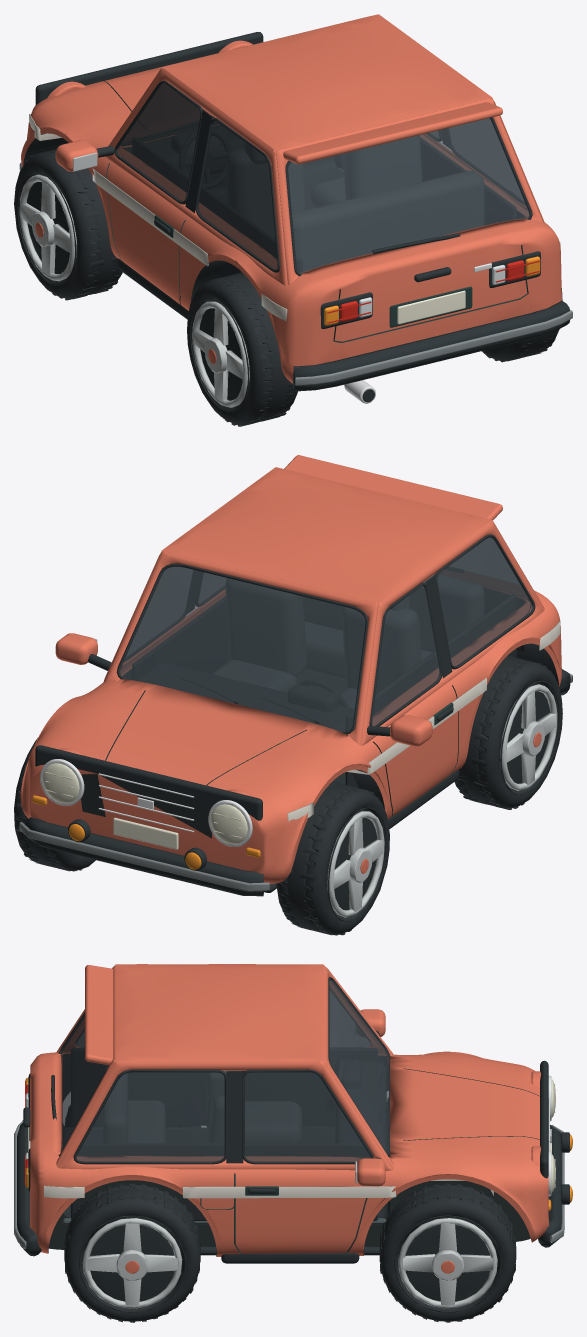
Rendered from bramble_lod1.fbx.
3 views of the same model, one above another, from view 1: azimuth 30°, elevation 25°; view 2: azimuth 150°, elevation 25°; view 3: azimuth 270°, elevation 25° (orthographic). The views are drawn at different scales.
Parts seen in each view (by area): view 1: Body, Wheel_RL_Mesh, Wheel_FL_Mesh, Wheel_RR_Mesh; view 2: Body, Wheel_FL_Mesh, Wheel_RL_Mesh, Wheel_FR_Mesh; view 3: Body, Wheel_FR_Mesh, Wheel_RR_Mesh.
Boxes of the visible parts, bbox=[...] form: Body: bbox=[19, 14, 572, 403]; Wheel_RL_Mesh: bbox=[187, 272, 297, 426]; Wheel_FL_Mesh: bbox=[14, 149, 122, 300]; Wheel_RR_Mesh: bbox=[482, 288, 562, 362]; Body: bbox=[19, 455, 572, 896]; Wheel_FL_Mesh: bbox=[276, 782, 389, 935]; Wheel_RL_Mesh: bbox=[454, 655, 562, 809]; Wheel_FR_Mesh: bbox=[14, 738, 95, 871]; Body: bbox=[14, 964, 572, 1263]; Wheel_FR_Mesh: bbox=[379, 1183, 516, 1322]; Wheel_RR_Mesh: bbox=[64, 1183, 200, 1322].
Bounding box in the file's own units: 227 × 162 × 328.
